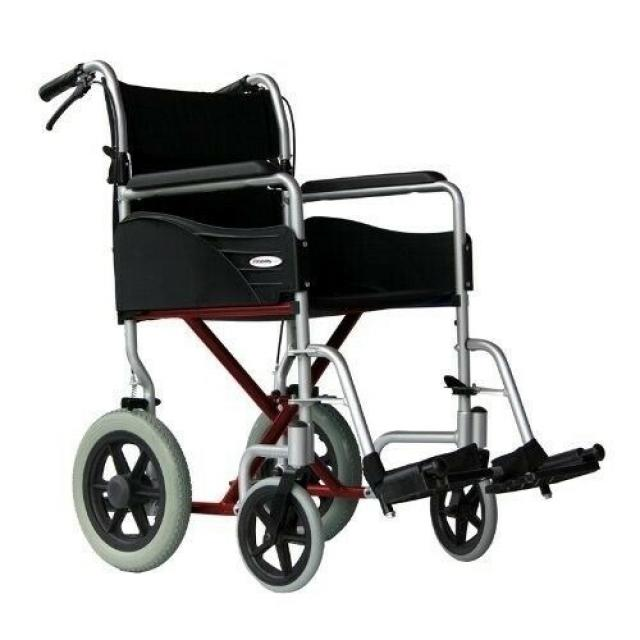wheelchair: (30, 53, 615, 592)
